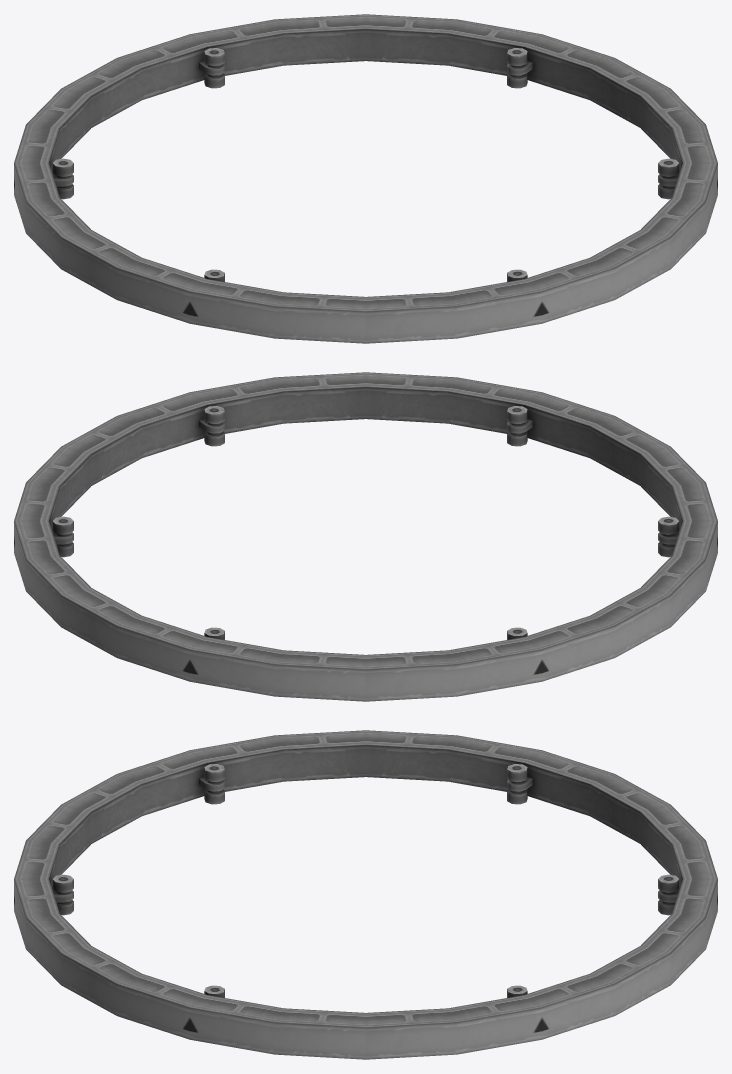
The model's file is castor_decoupler_s2_1.obj.
3 renders of one model, top to bottom at view 1: azimuth 30°, elevation 25°; view 2: azimuth 150°, elevation 25°; view 3: azimuth 270°, elevation 25°, orthographic.
Parts seen in each view (by area): view 1: mesh1; view 2: mesh1; view 3: mesh1.
Part boxes in pixels (x1=…): mesh1: x1=14, y1=14, x2=717, y2=343; mesh1: x1=14, y1=372, x2=717, y2=701; mesh1: x1=14, y1=730, x2=717, y2=1059.
Bounding box in the file's own units: 2.5 × 0.125 × 2.5.
Materials: 1 (1 with a texture image).
